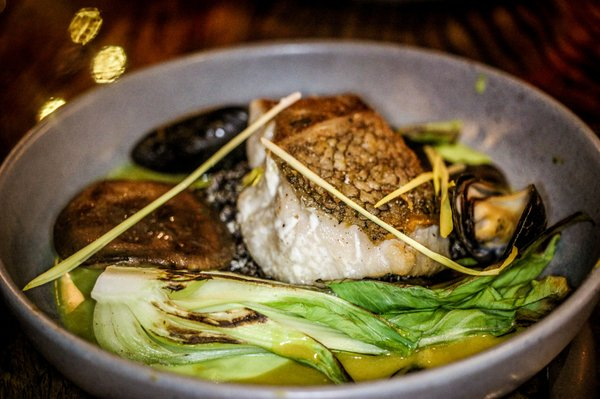salad: (28, 92, 303, 292)
sushi: (1, 29, 533, 396)
